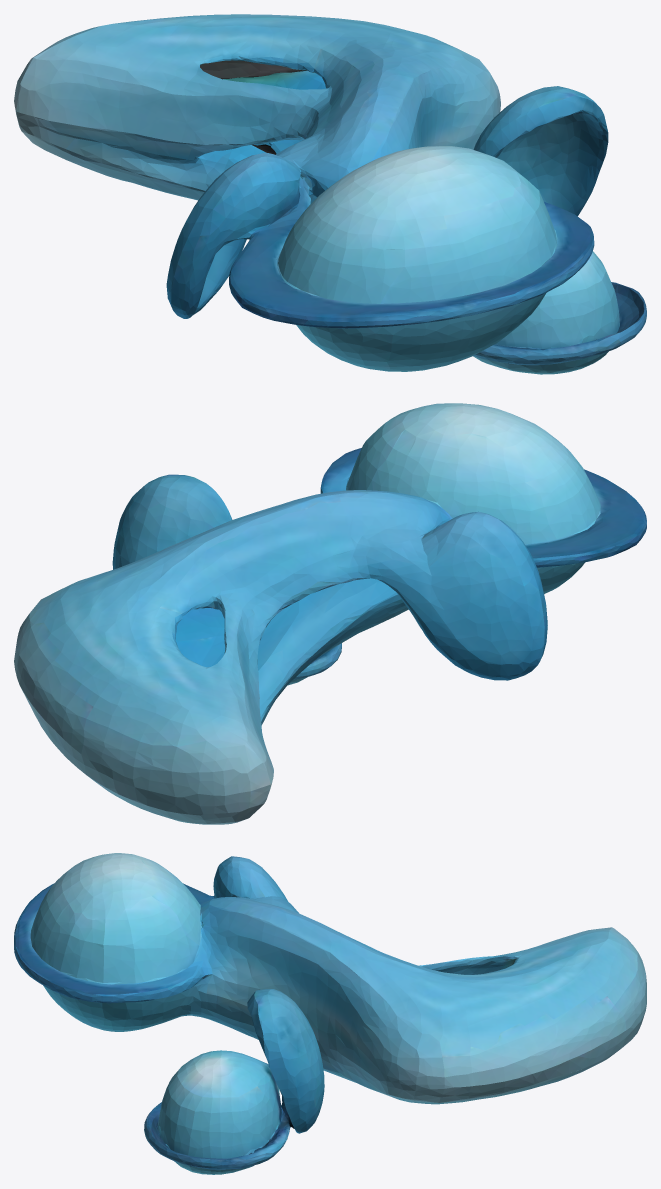
File: bubbly.glb
3 views of the same model, one above another, from view 1: azimuth 30°, elevation 25°; view 2: azimuth 150°, elevation 25°; view 3: azimuth 270°, elevation 25° (orthographic). The views are drawn at different scales.
Visible parts, largest first — view 1: world; view 2: world; view 3: world.
Part boxes in pixels (<box>): world: <box>14,14,646,374</box>; world: <box>14,403,646,824</box>; world: <box>14,853,646,1174</box>.
Size of the model in its own units: 0.6607 by 0.3928 by 0.9994.
Materials: 1 (1 with a texture image).
